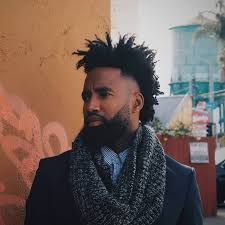black_male: (67, 39, 148, 151)
